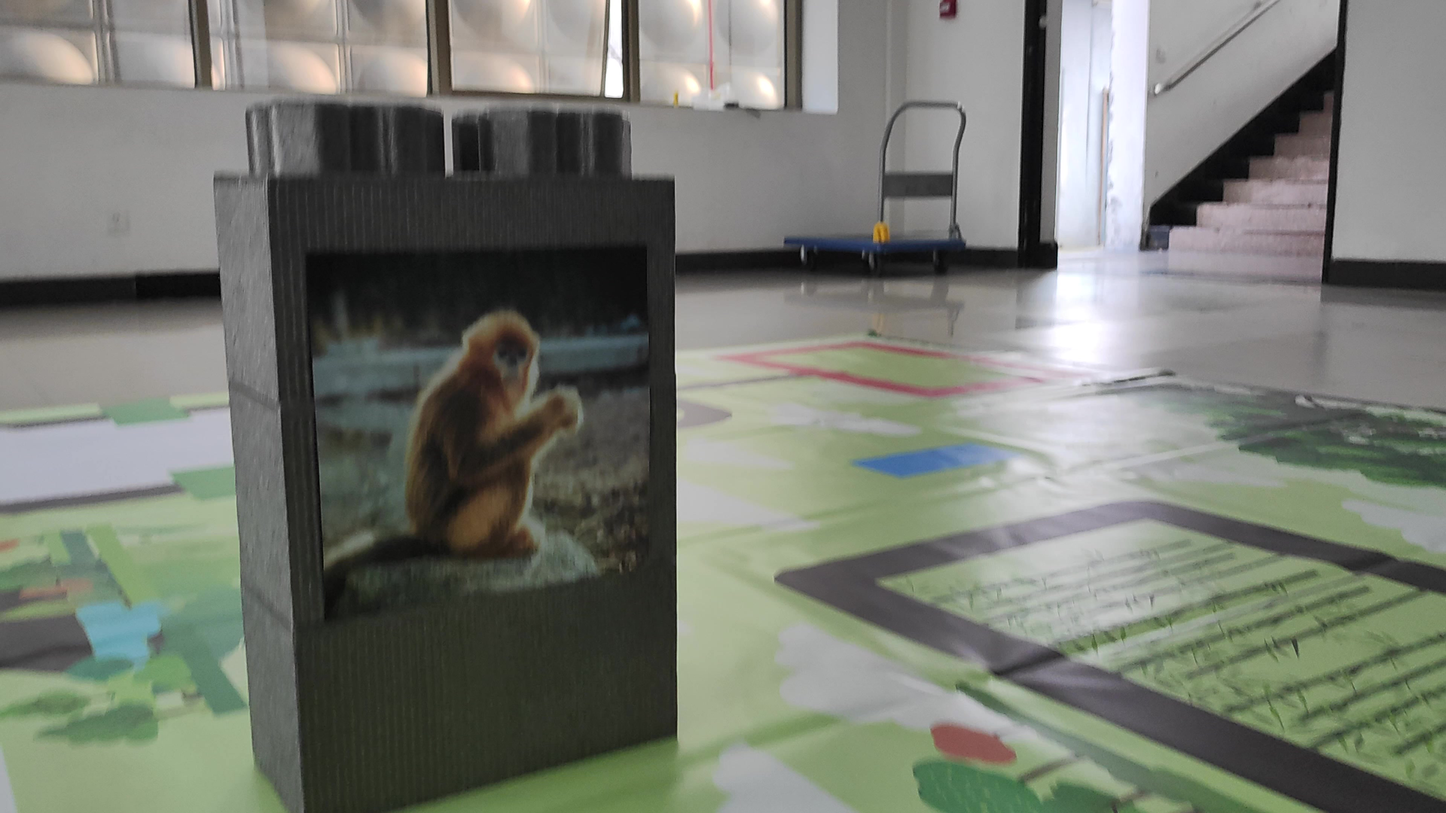monkey: (339, 290, 604, 614)
